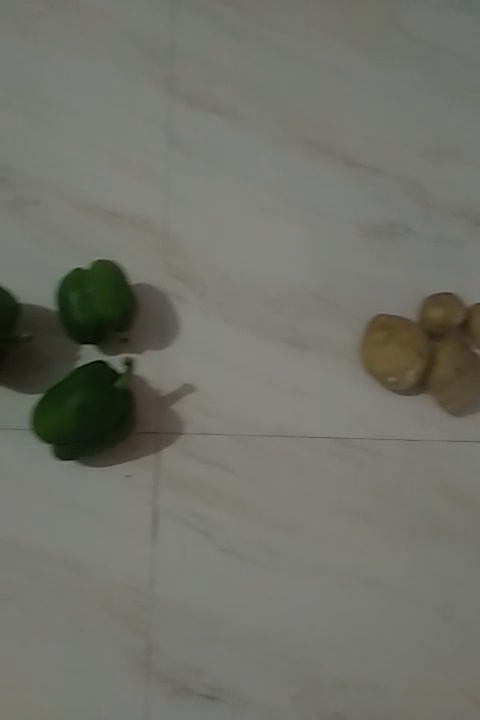capsicum: (34, 364, 153, 468), (50, 261, 145, 342)
potato: (366, 308, 437, 401), (434, 337, 477, 412), (425, 290, 467, 334)
